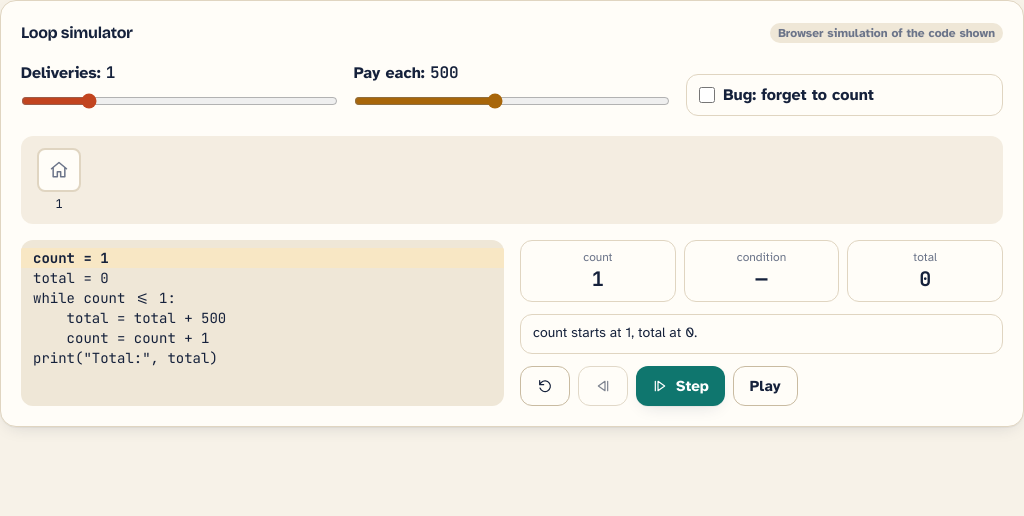
Test: LoopSimulator › explains the infinite loop when the bug is enabled
Click the checkbox labelled "Bug: forget to count" at (707,95), box 699,87 -> 715,103
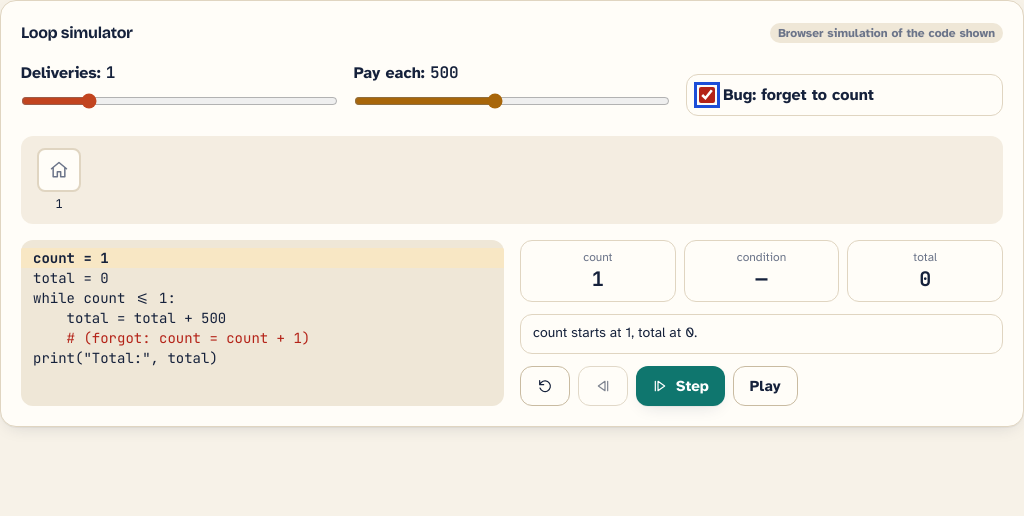
Click the button "Step" at (680,386), box 636,366 -> 725,406
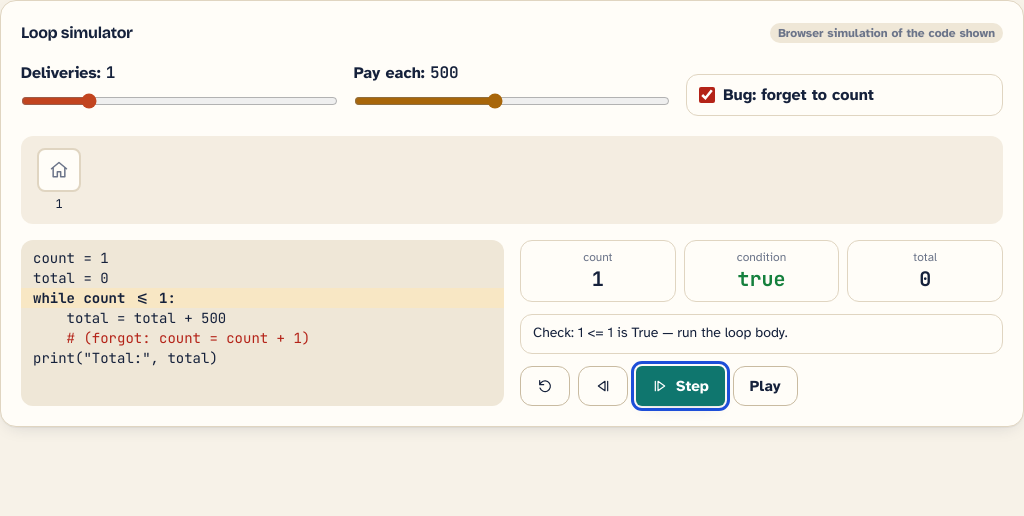
Click the button "Step" at (680,386), box 636,366 -> 725,406
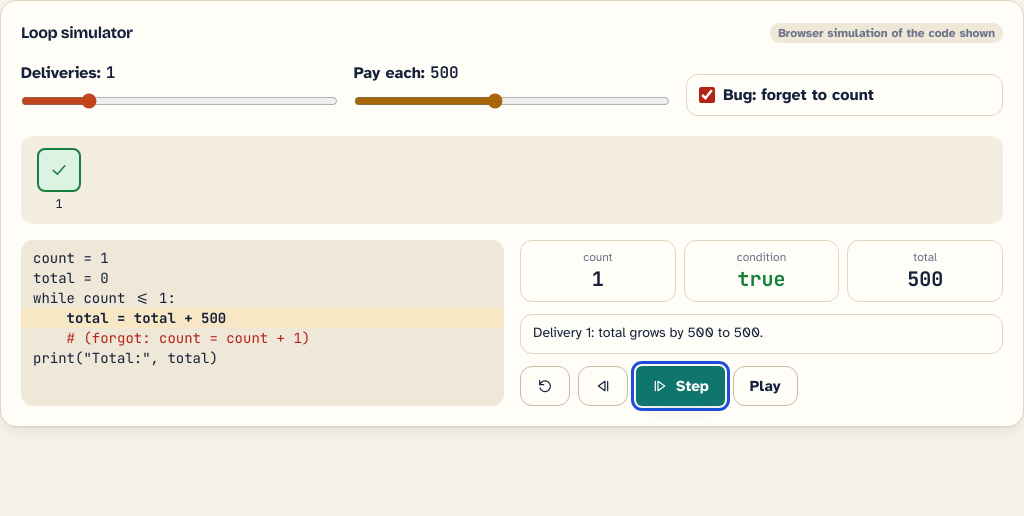
Click the button "Step" at (680,386), box 636,366 -> 725,406
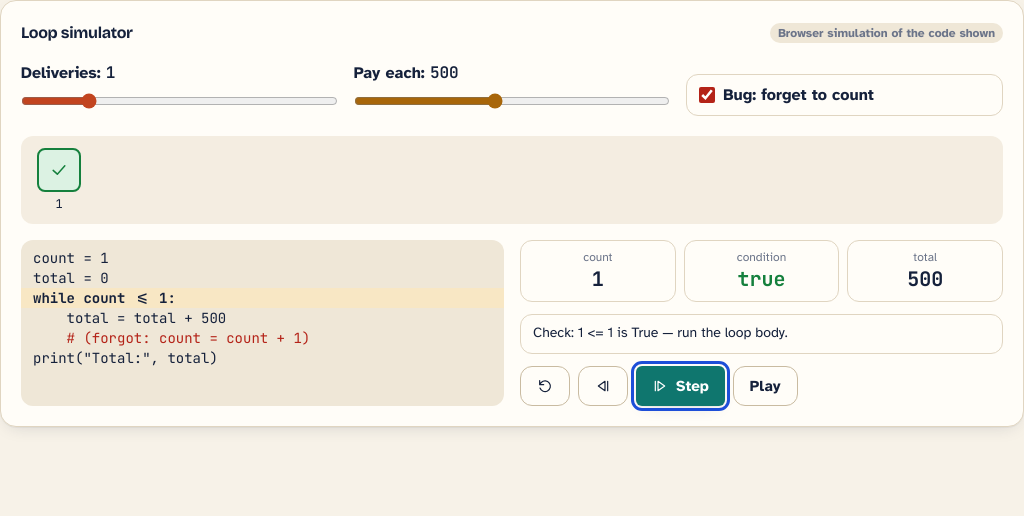
Click the button "Step" at (680,386), box 636,366 -> 725,406
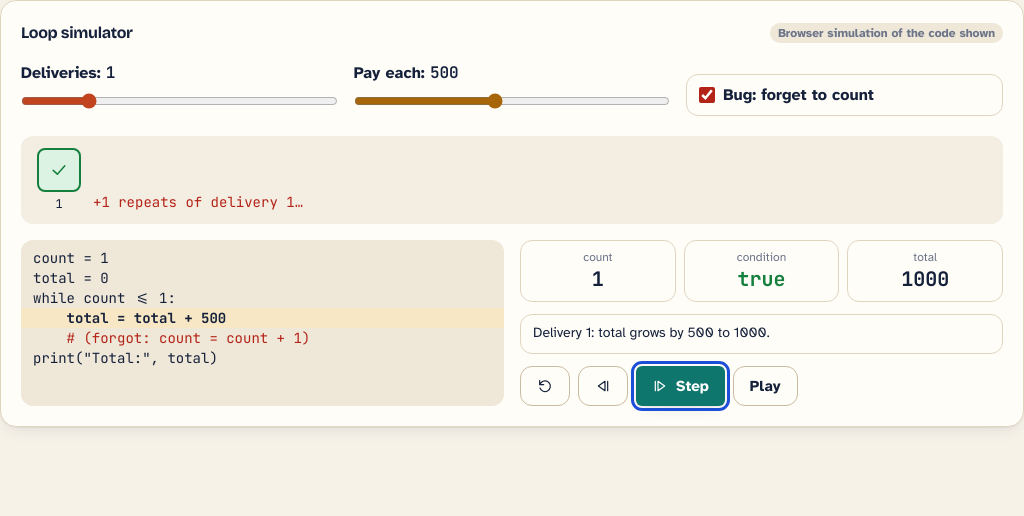
Click the button "Step" at (680,386), box 636,366 -> 725,406
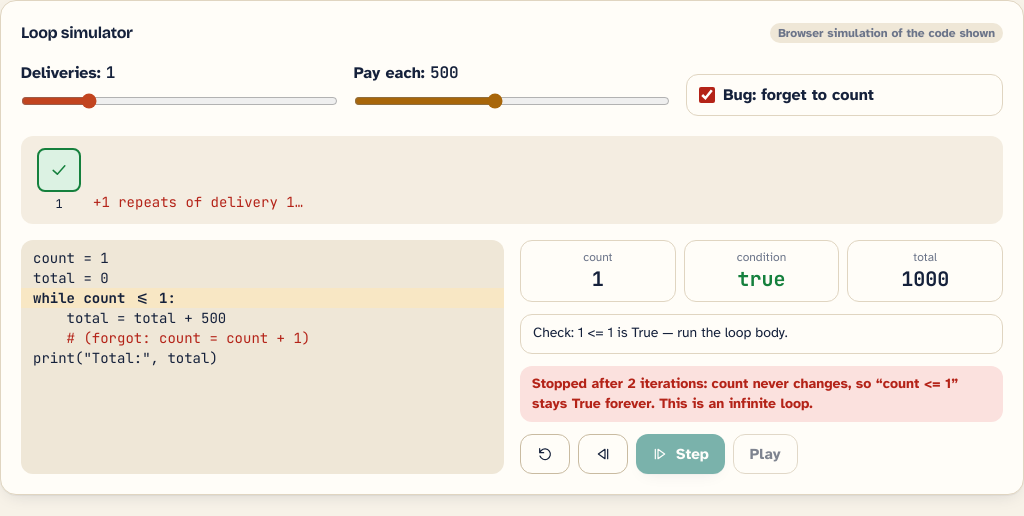
Expected: the message shows "infinite loop", 532,375 -> 958,412
